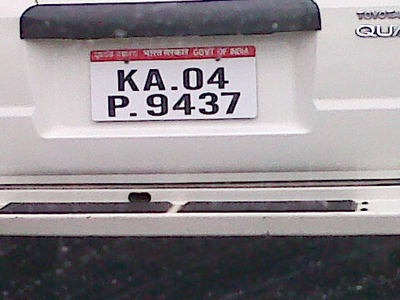number_plate: (88, 47, 261, 122)
